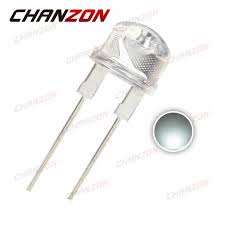LED: (79, 20, 174, 110)
